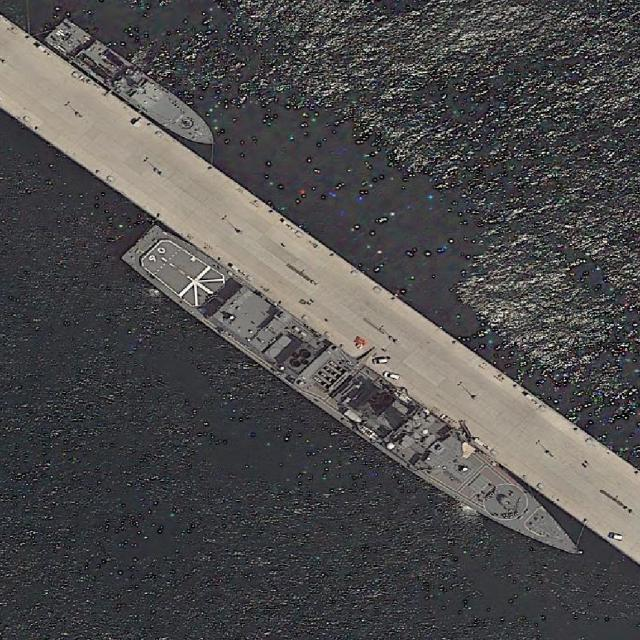Destroyer: (118, 217, 600, 579)
Other Warship: (44, 14, 226, 160)
